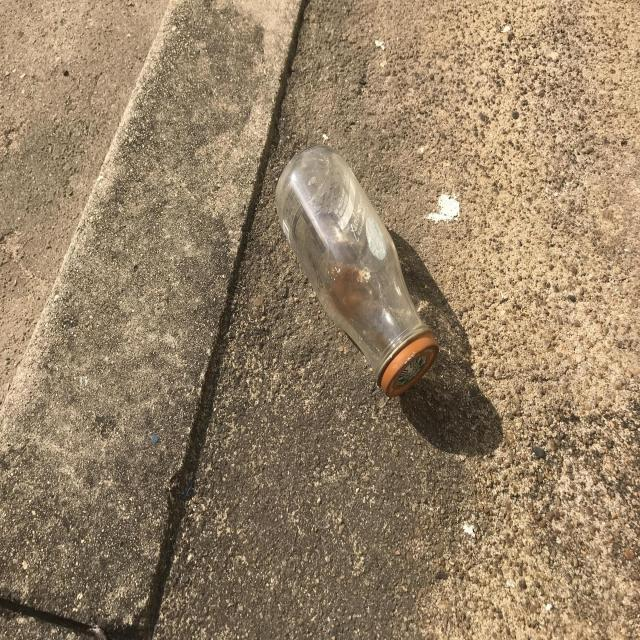glass: (276, 144, 439, 397)
